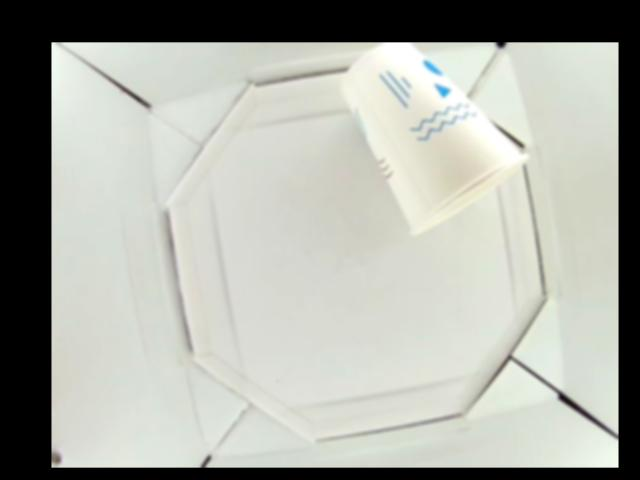Cup: (338, 43, 530, 235)
